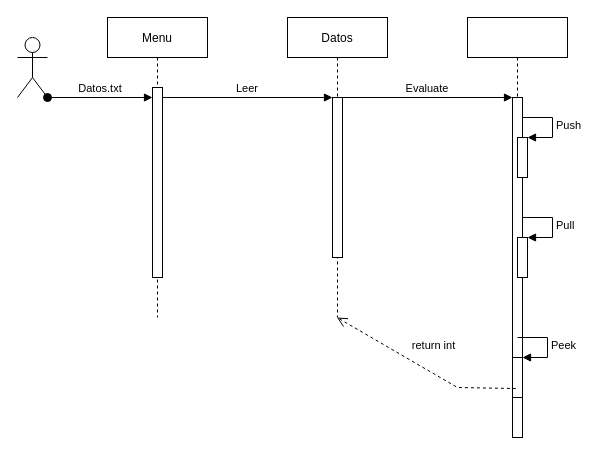
The diagram is 599 pixels wide and 455 high, and some of its shapes have lost their labels. The box of each missing label's shape, as (x1, y1, x2, y2) in pixels:
Actor: (16, 36, 48, 98)
Vector: (466, 16, 568, 438)
